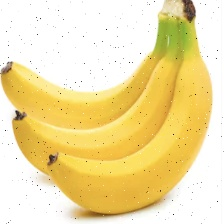banana: (16, 44, 178, 210)
